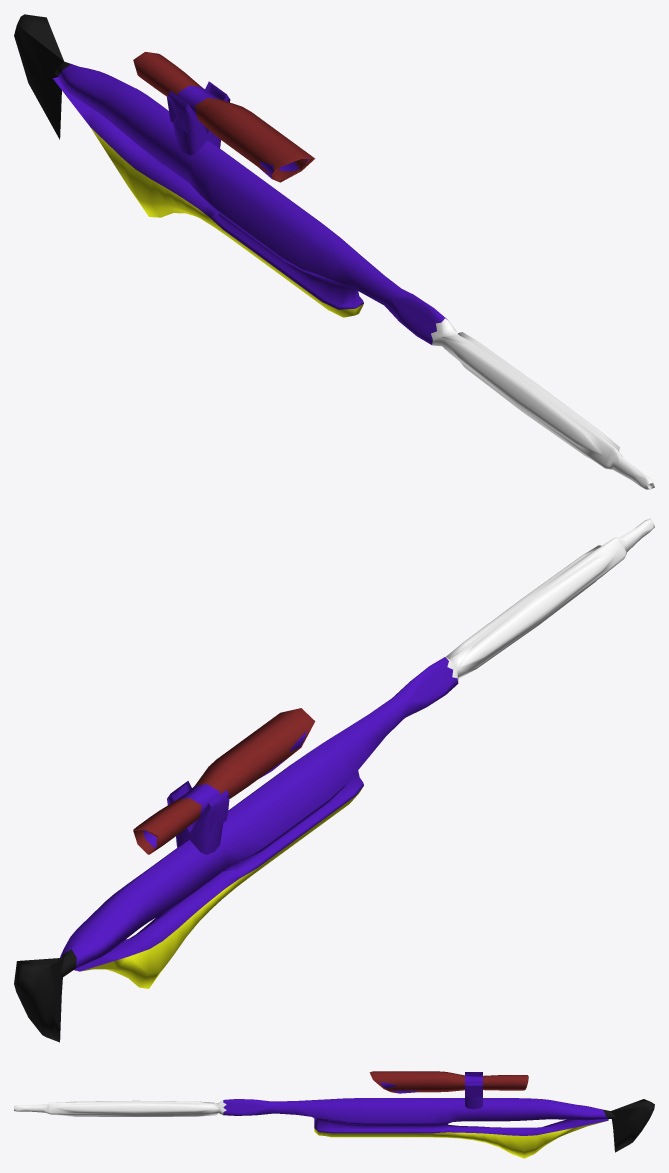
File: SpaceSniper_high_with_materials.FBX
The picture shows the model from 3 angles, top to bottom: view 1: azimuth 30°, elevation 25°; view 2: azimuth 150°, elevation 25°; view 3: azimuth 270°, elevation 25°; orthographic projection. The views are drawn at different scales.
Visible parts, largest first — view 1: pCylinder1, pCylinder2; view 2: pCylinder1, pCylinder2; view 3: pCylinder1, pCylinder2.
Boxes of the visible parts, x1=… form: pCylinder1: x1=14, y1=14, x2=654, y2=489; pCylinder2: x1=133, y1=52, x2=315, y2=182; pCylinder1: x1=14, y1=518, x2=654, y2=1042; pCylinder2: x1=133, y1=708, x2=315, y2=854; pCylinder1: x1=14, y1=1098, x2=654, y2=1158; pCylinder2: x1=369, y1=1071, x2=528, y2=1109.
Bounding box in the file's own units: 17.41 × 55.61 × 375.
